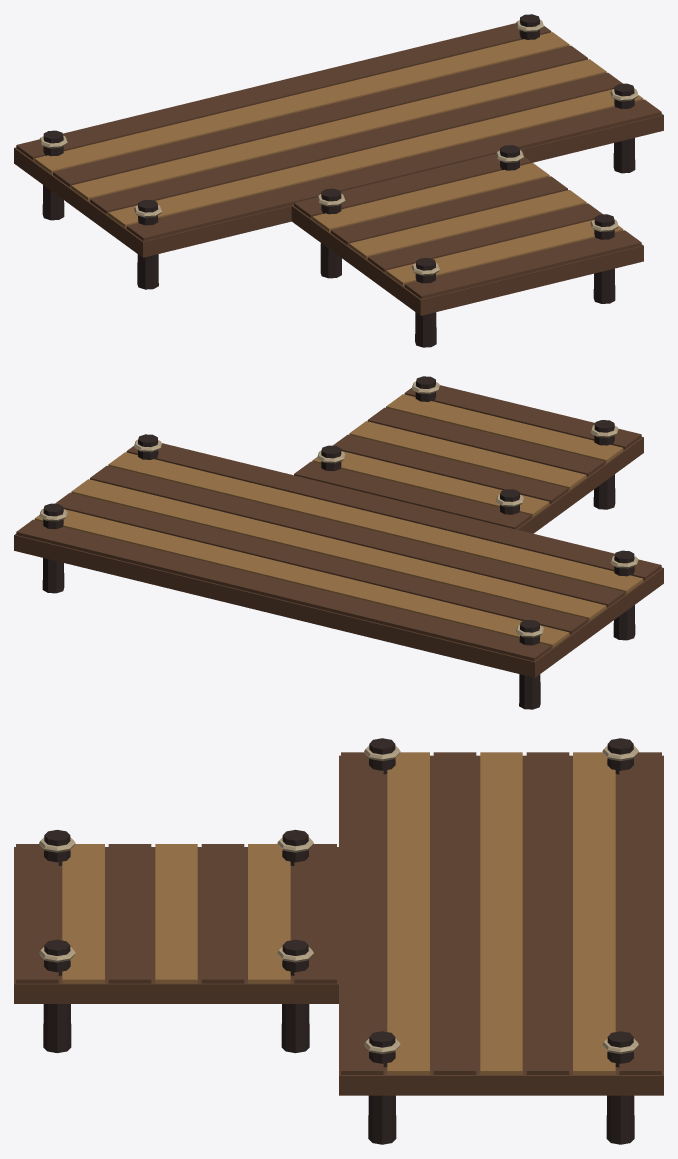
The model's file is PirateCove_DockT_Standard.glb.
The picture shows the model from 3 angles, top to bottom: view 1: azimuth 30°, elevation 25°; view 2: azimuth 150°, elevation 25°; view 3: azimuth 270°, elevation 25°; orthographic projection. The views are drawn at different scales.
Parts seen in each view (by area): view 1: PirateCove_DockT_Standard; view 2: PirateCove_DockT_Standard; view 3: PirateCove_DockT_Standard.
Part boxes in pixels (box(x1,y1,x2,y2)): PirateCove_DockT_Standard: box(14, 14, 663, 347); PirateCove_DockT_Standard: box(14, 376, 663, 709); PirateCove_DockT_Standard: box(14, 738, 663, 1144).
Size of the model in its own units: 7 by 1.04 by 6.
